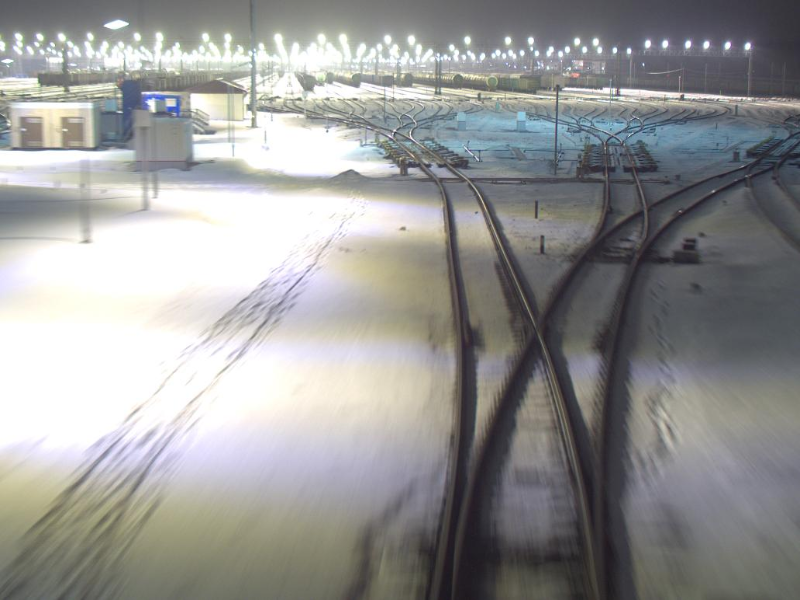left: (425, 526, 618, 596)
right: (575, 226, 657, 258)
